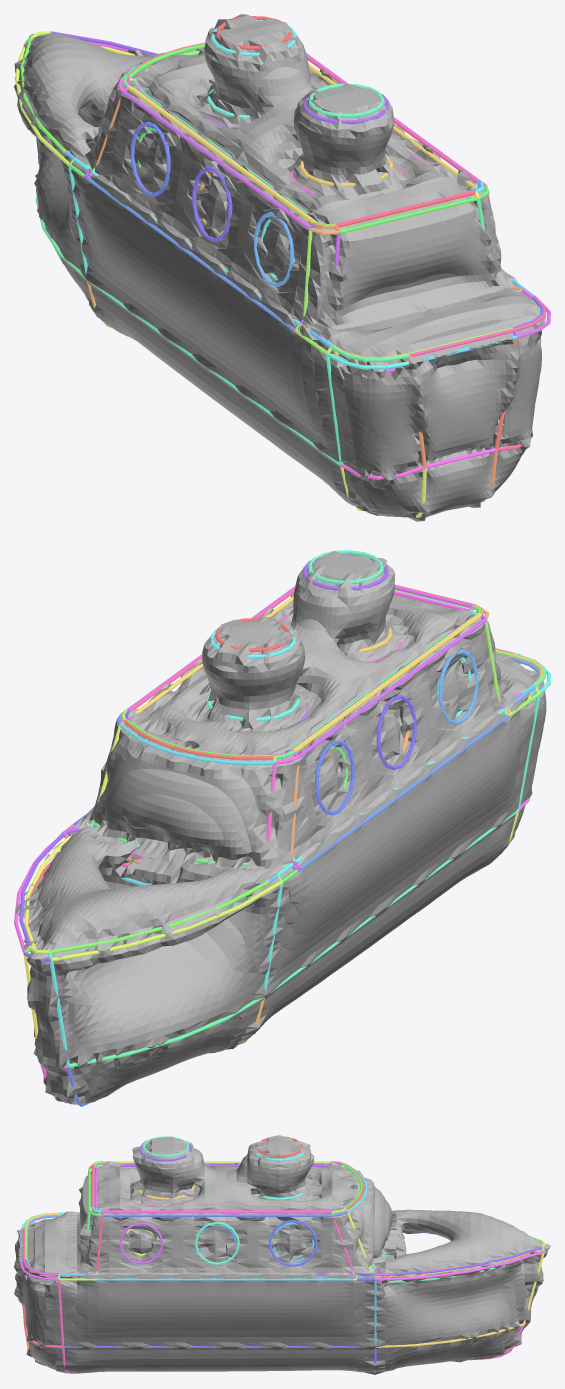
The model's file is onshape_boat.gltf.
3 renders of one model, top to bottom at view 1: azimuth 30°, elevation 25°; view 2: azimuth 150°, elevation 25°; view 3: azimuth 270°, elevation 25°, orthographic. The views are drawn at different scales.
Bounding box in the file's own units: 0.2606 × 0.4038 × 0.9013.
